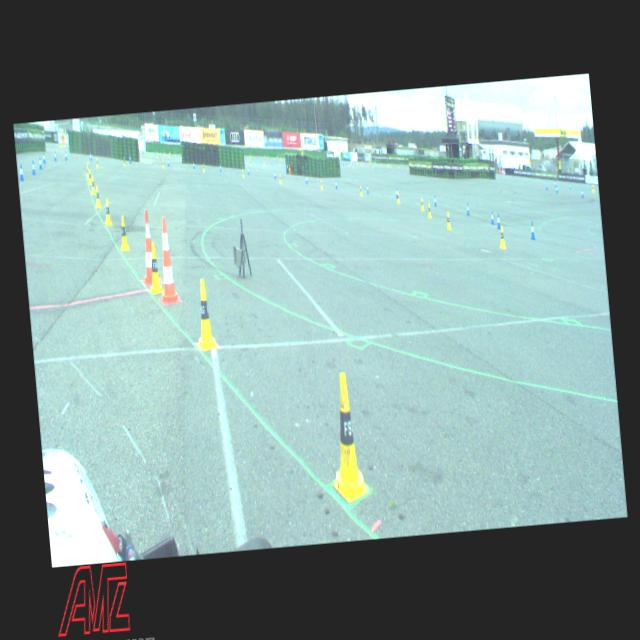blue_cone: (529, 220, 535, 239), (18, 164, 24, 180), (30, 160, 36, 174), (495, 212, 500, 228), (489, 210, 494, 223), (38, 156, 42, 170), (466, 202, 470, 214), (42, 152, 46, 163), (580, 188, 584, 198), (304, 174, 308, 183), (433, 195, 436, 206), (89, 152, 92, 161), (64, 151, 67, 160), (192, 161, 195, 168), (395, 188, 397, 198), (54, 151, 56, 160), (366, 184, 368, 193), (128, 154, 130, 163), (334, 179, 336, 188), (219, 163, 221, 171), (274, 170, 276, 178), (246, 166, 248, 174), (167, 157, 169, 165)
large_orange_cone: (154, 216, 179, 304), (138, 210, 154, 284)
yellow_cone: (324, 371, 370, 502), (192, 278, 218, 351), (146, 242, 164, 292), (118, 216, 129, 250), (103, 198, 111, 225), (498, 226, 506, 248), (94, 185, 101, 208), (445, 211, 451, 230), (90, 176, 96, 194), (426, 203, 432, 217), (87, 169, 91, 184), (85, 165, 89, 178), (420, 198, 424, 210), (122, 157, 126, 166), (396, 191, 399, 203), (278, 174, 282, 183), (87, 162, 90, 174), (359, 185, 362, 195), (95, 158, 98, 167), (242, 168, 244, 178), (320, 180, 322, 188), (202, 163, 204, 171), (162, 159, 164, 167)
